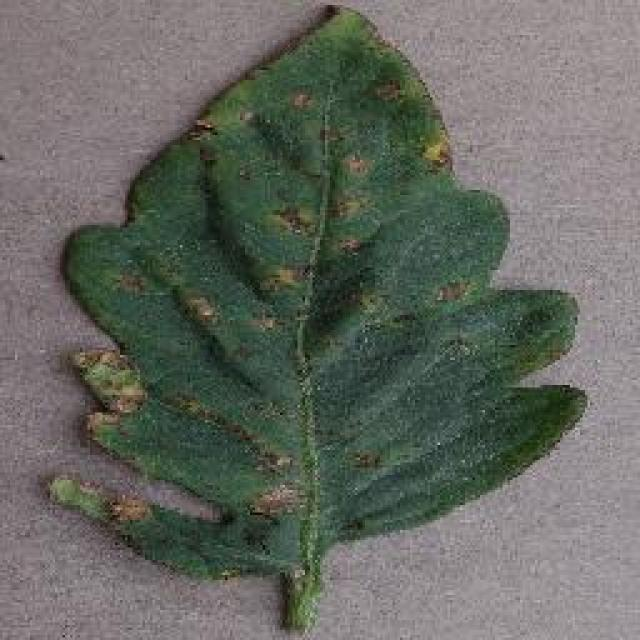Tomato bacterial spot leaf: (36, 0, 598, 591)
